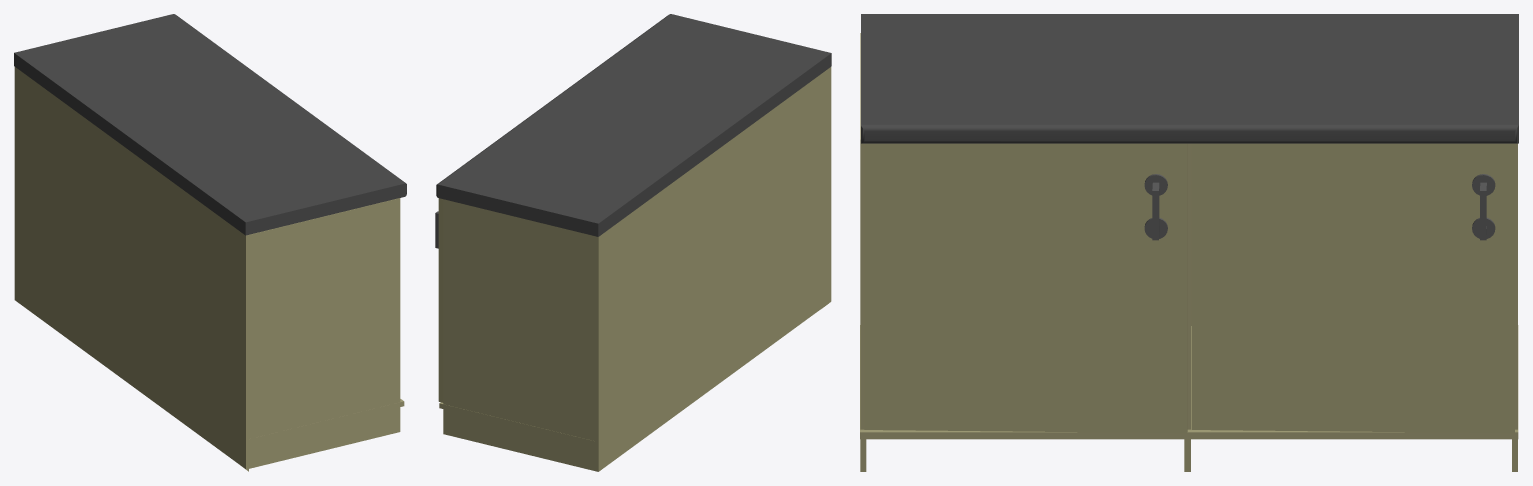
Rendered from Worktop_02.fbx.
3 views of the same model, side by side, from view 1: azimuth 30°, elevation 25°; view 2: azimuth 150°, elevation 25°; view 3: azimuth 270°, elevation 25° (orthographic). The views are drawn at different scales.
Parts seen in each view (by area): view 1: polySurface36; view 2: polySurface36; view 3: polySurface36.
Boxes of the visible parts, bbox=[...] form: polySurface36: bbox=[14, 14, 406, 471]; polySurface36: bbox=[435, 14, 831, 471]; polySurface36: bbox=[860, 14, 1518, 471].
Size of the model in its own units: 1229 by 1700 by 2845.
